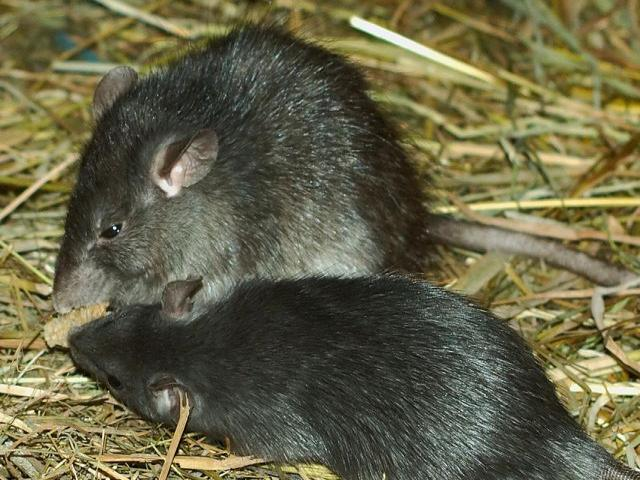Tikus: (50, 21, 428, 315), (71, 286, 569, 480)
